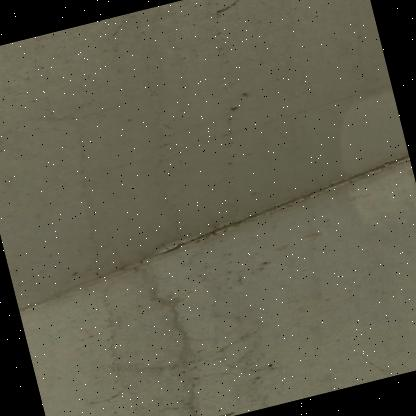Crack: (66, 130, 415, 308), (176, 0, 263, 38)
